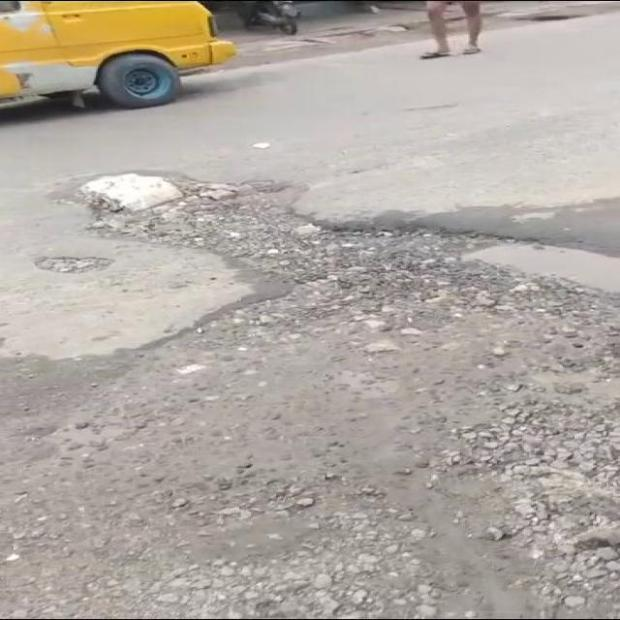lubang: (0, 174, 619, 616), (35, 257, 112, 273)
